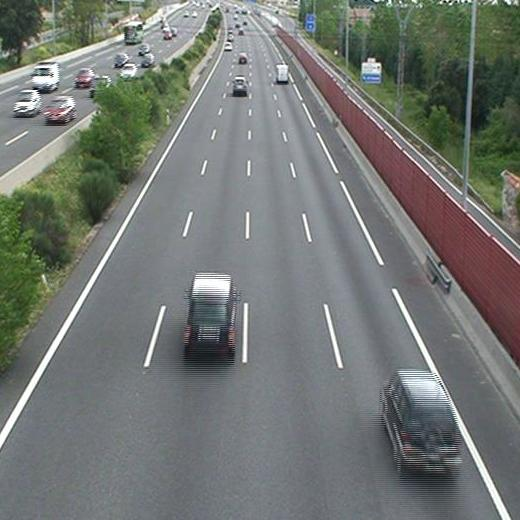car: (382, 374, 461, 471), (184, 274, 234, 347), (233, 77, 247, 92), (237, 53, 246, 63)
van: (276, 63, 290, 82)
